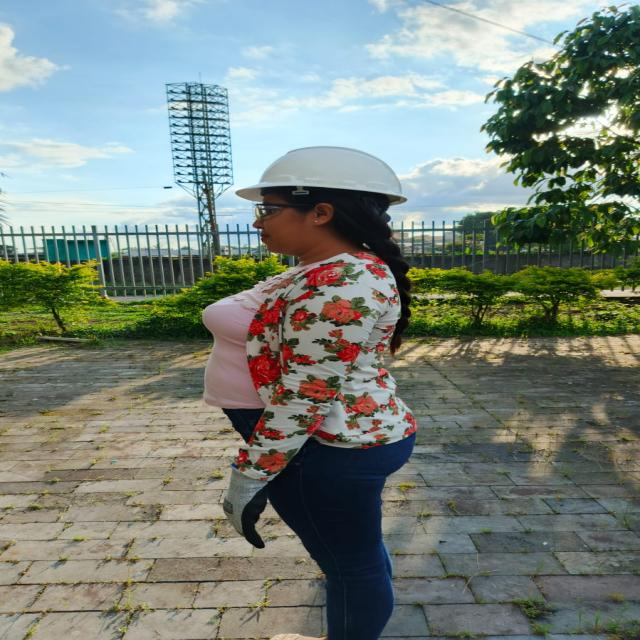gloves: (221, 467, 267, 548)
helmet: (236, 146, 406, 206)
protective_glasses: (254, 203, 328, 223)
